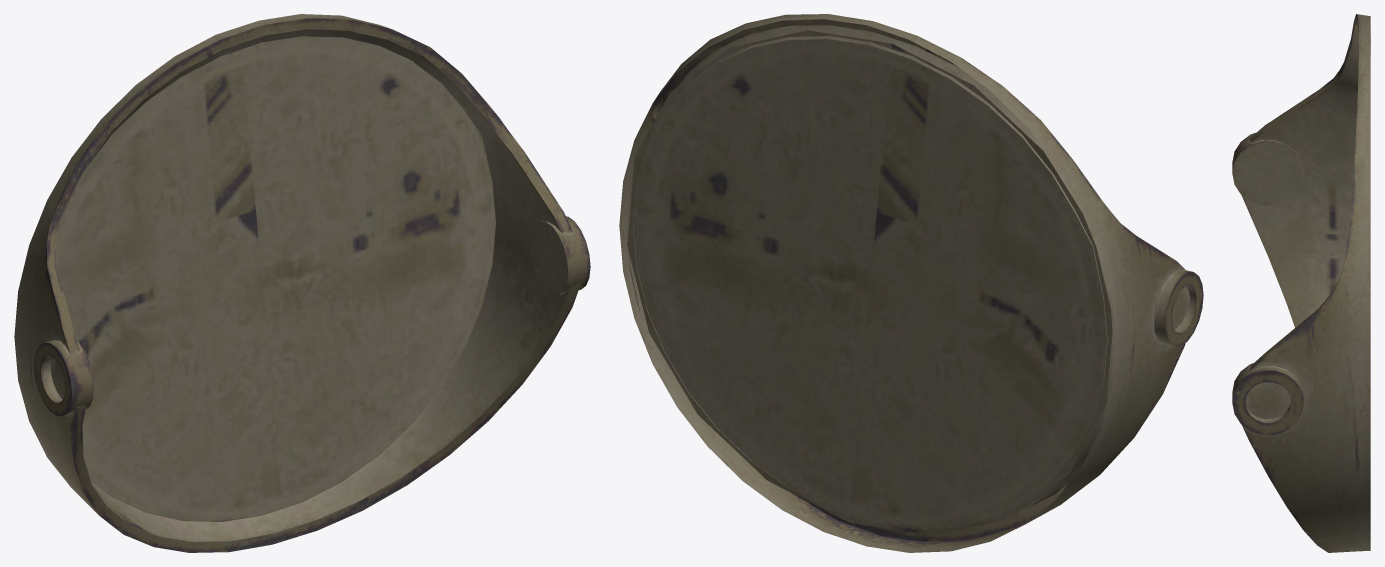
File: Turret_01.glb
The picture shows the model from 3 angles, left to right: view 1: azimuth 30°, elevation 25°; view 2: azimuth 150°, elevation 25°; view 3: azimuth 270°, elevation 25°; orthographic projection. The views are drawn at different scales.
Parts seen in each view (by area): view 1: set_0_group_0; view 2: set_0_group_0; view 3: set_0_group_0.
Part boxes in pixels (left/top/right/bottom): set_0_group_0: left=14, top=14, right=590, bottom=552; set_0_group_0: left=619, top=14, right=1203, bottom=552; set_0_group_0: left=1232, top=14, right=1370, bottom=552.
Size of the model in its own units: 2.28 by 2.16 by 0.5567.
1 material, 1 textured.
